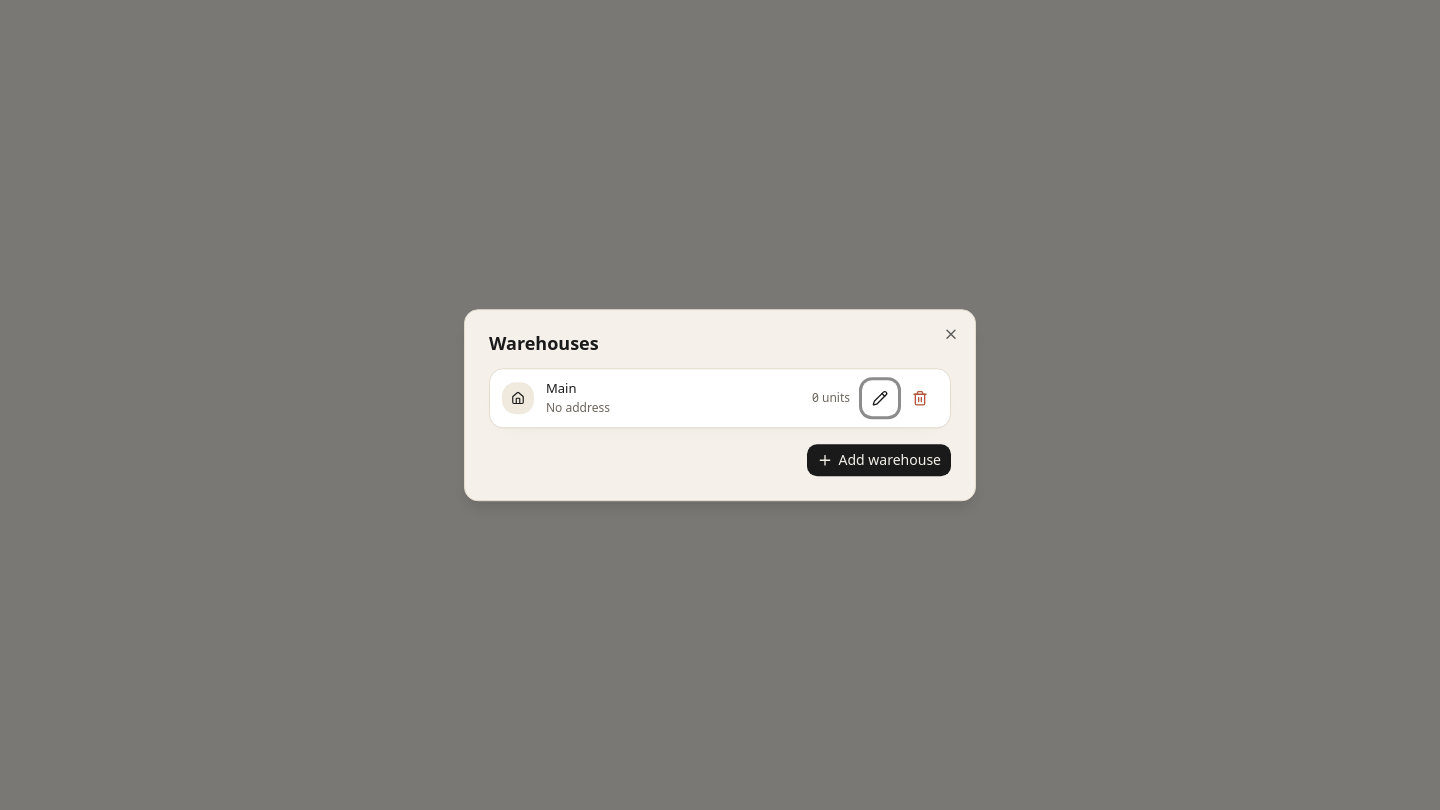
it: WarehousesDialog › refuses a second warehouse with the same name
Click the button "Add warehouse". click: (879, 460)
box: [806,444,951,476]
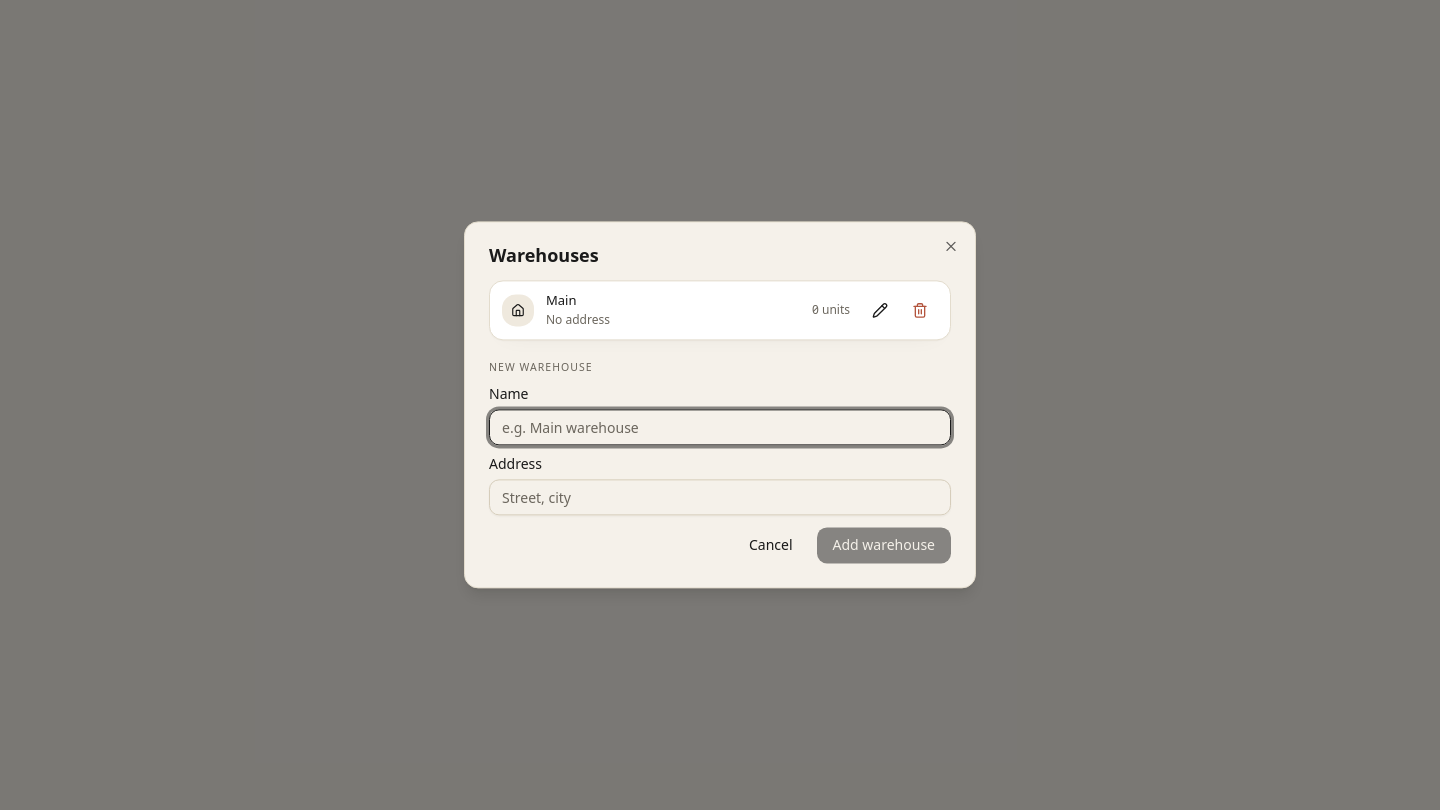
Type "  main " into the field labelled "Name". click: (720, 428)
box: [489,410,951,446]
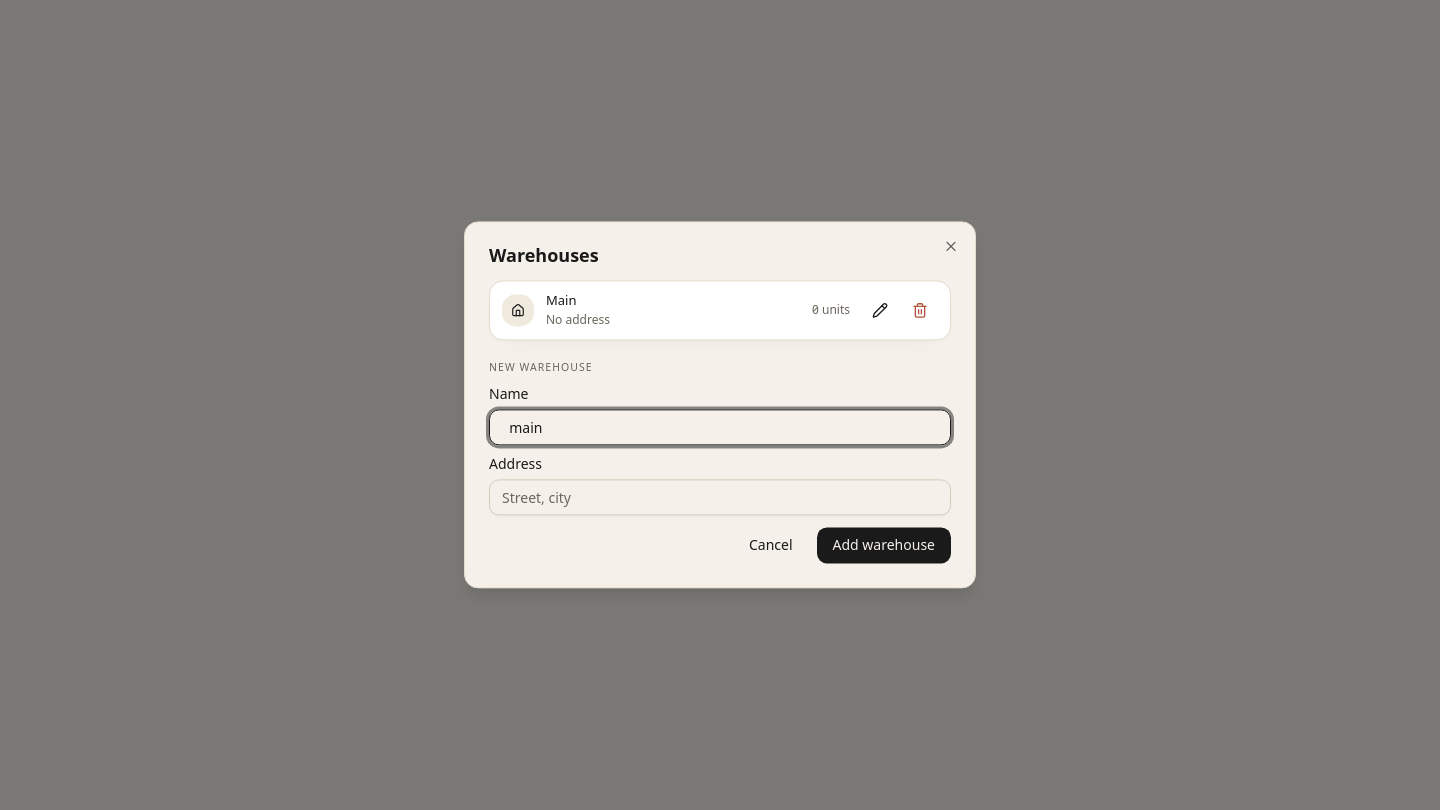
Click the button "Add warehouse". click: (884, 546)
box: [816,528,951,564]
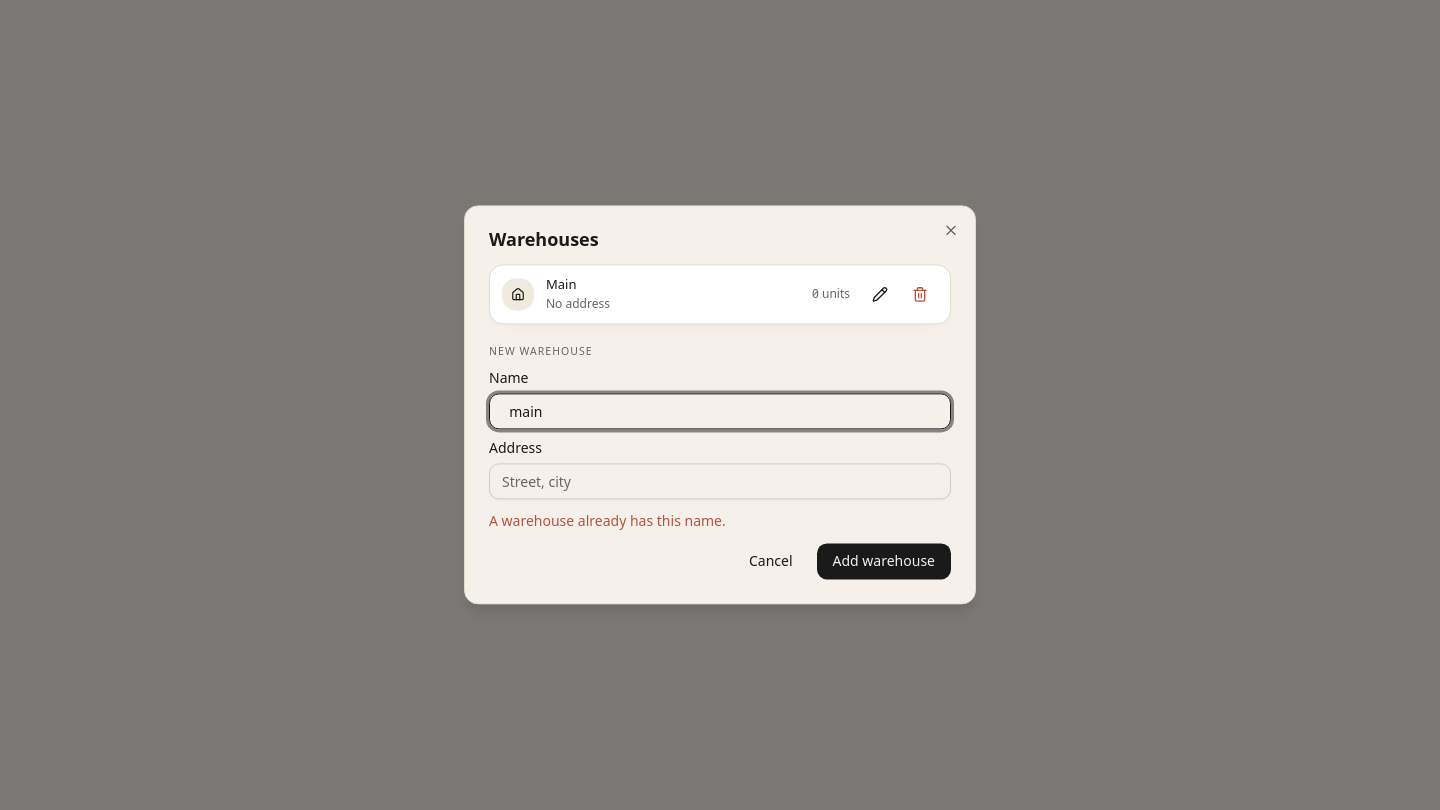
Expected: the text "A warehouse already has this name." is shown, [489,512,726,531]
